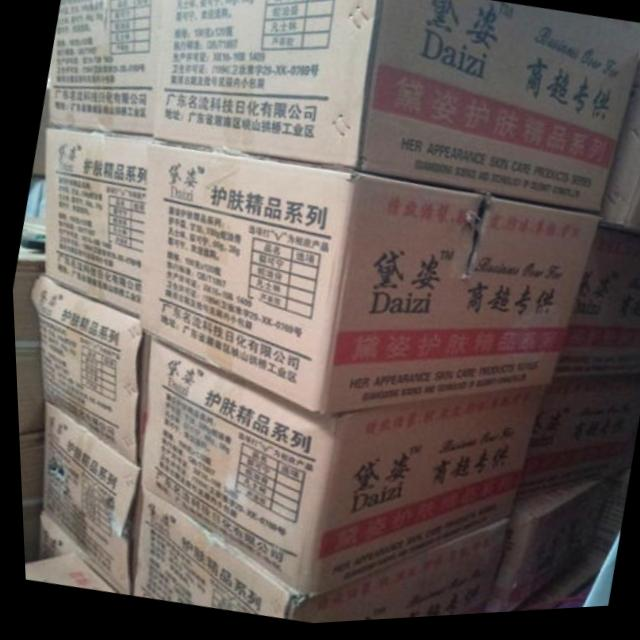box: (135, 140, 598, 420), (150, 0, 640, 220), (134, 338, 543, 599), (125, 487, 507, 627), (25, 276, 149, 469), (40, 127, 150, 321), (38, 399, 134, 596), (477, 478, 610, 619), (511, 380, 640, 506), (46, 0, 162, 140), (547, 231, 640, 385), (595, 65, 640, 242), (33, 512, 112, 593), (510, 562, 599, 617), (584, 475, 626, 565), (20, 553, 110, 594), (10, 243, 41, 348), (12, 348, 38, 434), (15, 432, 36, 500), (17, 499, 38, 563)
